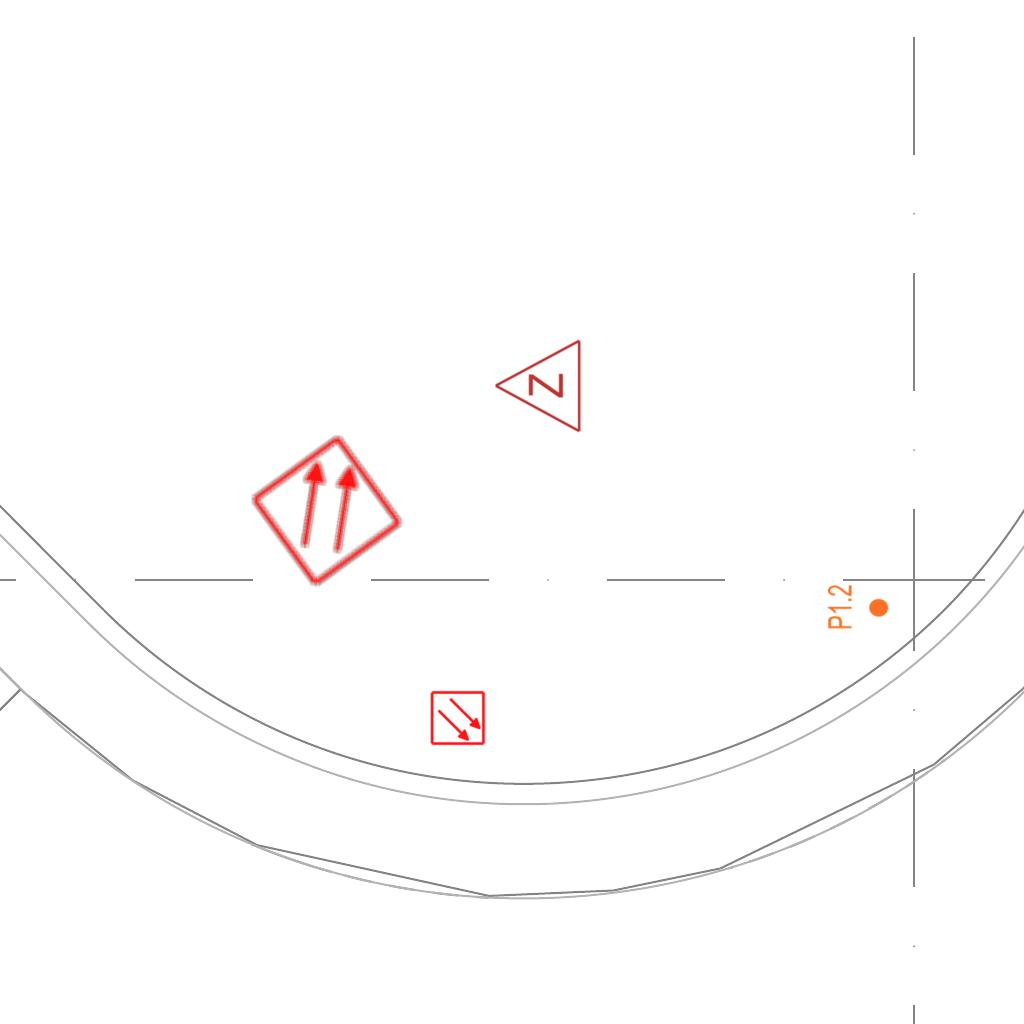Downlight_LED_Einbauleuchten_Flur: (826, 584, 890, 630)
RMO_Rauchmelder_optischer: (247, 431, 406, 590), (430, 690, 486, 746)
Zimmersignalleuchte: (488, 338, 588, 436)
